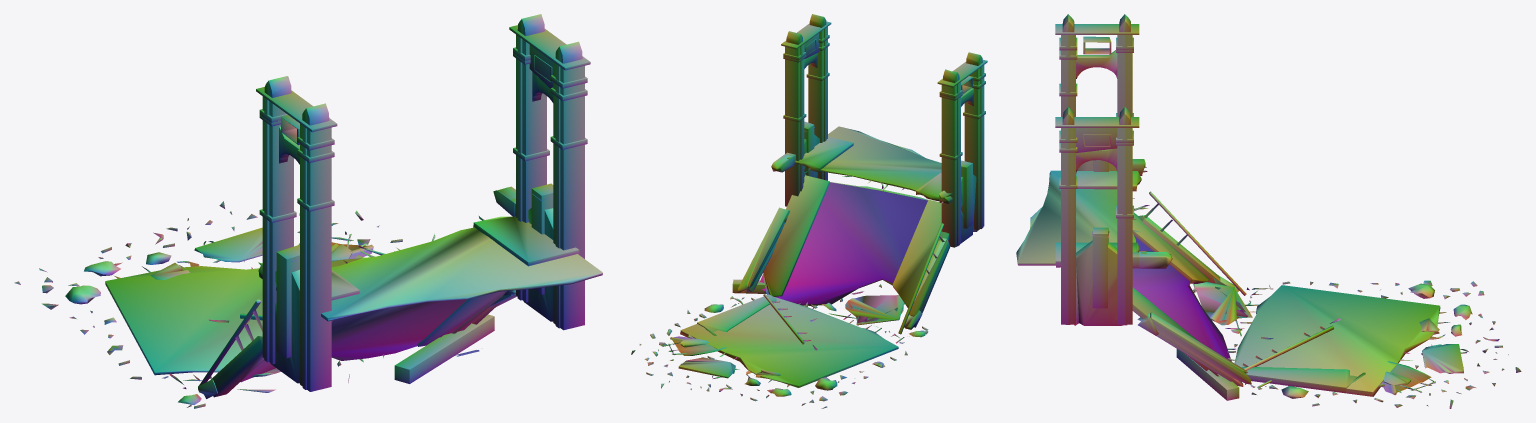
File: zeometry-fragments-ruins-ruined-gateway_v2.fbx
The picture shows the model from 3 angles, left to right: view 1: azimuth 30°, elevation 25°; view 2: azimuth 150°, elevation 25°; view 3: azimuth 270°, elevation 25°; orthographic projection. The views are drawn at different scales.
Parts seen in each view (by area): view 1: Ruined Gateway_v2; view 2: Ruined Gateway_v2; view 3: Ruined Gateway_v2.
Boxes of the visible parts, bbox=[...] form: Ruined Gateway_v2: bbox=[14, 14, 602, 408]; Ruined Gateway_v2: bbox=[631, 14, 987, 408]; Ruined Gateway_v2: bbox=[1016, 14, 1521, 408].
Size of the model in its own units: 0.296 by 0.3072 by 0.5.
